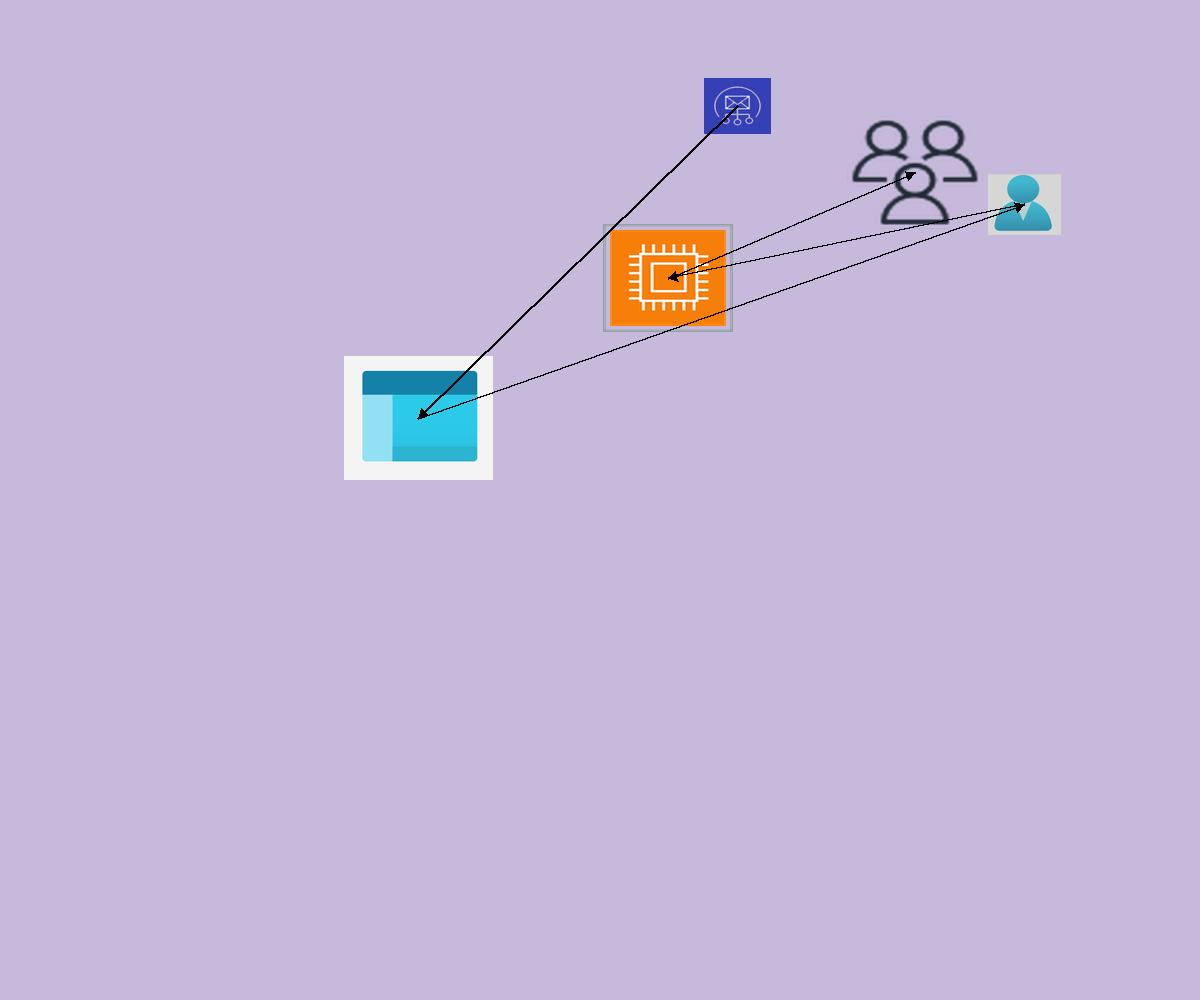AWS-Category_Compute: (603, 224, 733, 332)
AWS-Res_Users: (847, 116, 983, 229)
AWS-Simple-Email-Service: (704, 78, 771, 134)
Azure_management-portal: (344, 356, 493, 480)
Azure_users: (988, 174, 1061, 235)
